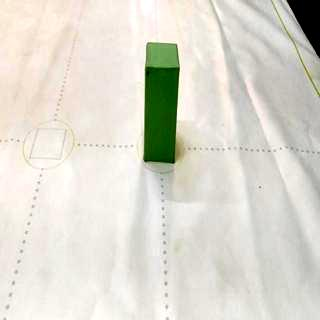greenbox: (142, 40, 182, 164)
